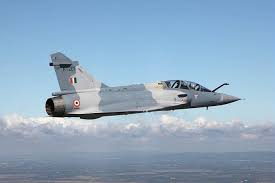maybay_muctieu: (45, 58, 244, 112)
